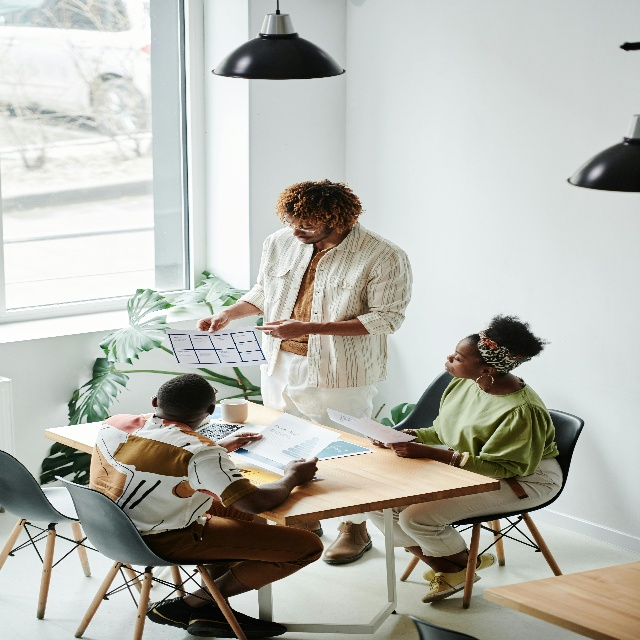Gafas: (283, 218, 323, 234)
Sin_guantes: (253, 317, 302, 341), (222, 429, 263, 454), (283, 456, 319, 484), (195, 313, 230, 334), (384, 442, 426, 458)
